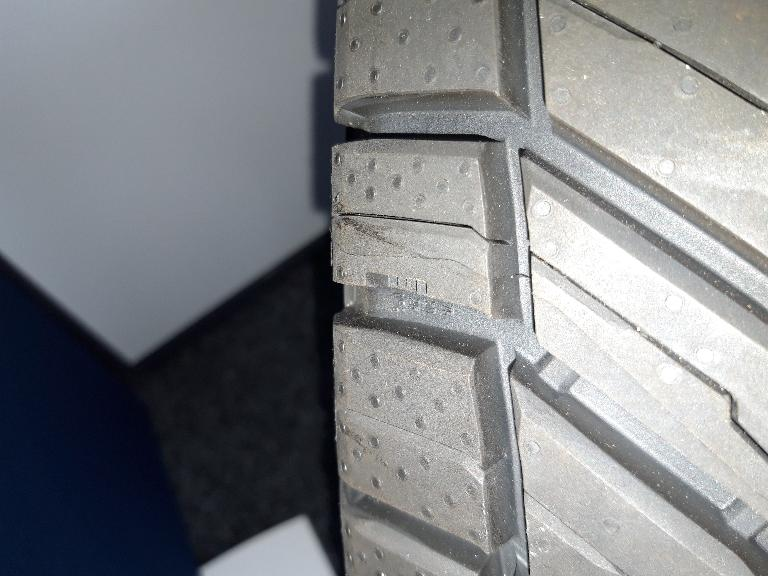temoin:100: (363, 270, 441, 304)
